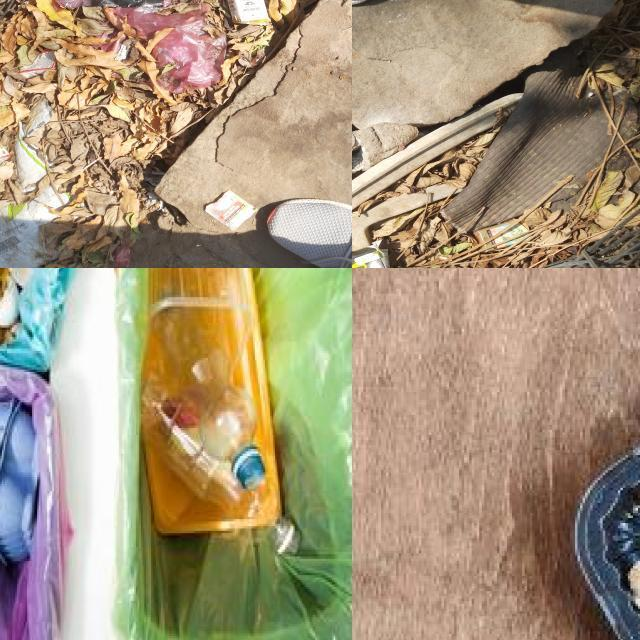Background: (159, 0, 352, 234)
Disposable: (0, 398, 39, 563)
Garbage: (0, 268, 306, 612), (0, 0, 319, 268), (202, 192, 255, 230)
Plastic: (141, 268, 279, 533)
Plastic_Bag: (114, 4, 226, 93), (0, 184, 66, 268), (15, 100, 51, 190)
Tetrapack: (205, 190, 256, 230), (18, 50, 56, 78), (226, 0, 270, 24)
contaminated_waste: (137, 268, 281, 531)
top_view_waste: (115, 268, 352, 640)
